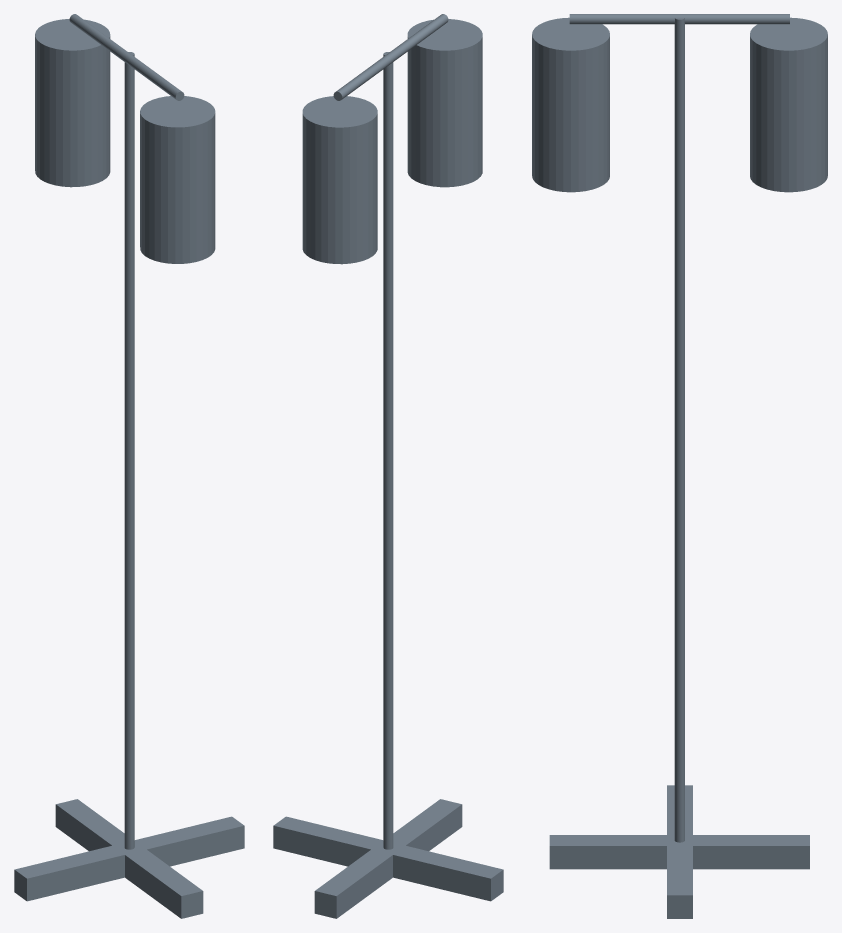
File: drop_counter.fbx
The picture shows the model from 3 angles, left to right: view 1: azimuth 30°, elevation 25°; view 2: azimuth 150°, elevation 25°; view 3: azimuth 270°, elevation 25°; orthographic projection. The views are drawn at different scales.
Visible parts, largest first — view 1: drop_counter.001; view 2: drop_counter.001; view 3: drop_counter.001.
Boxes of the visible parts, left/top/right/bottom form: drop_counter.001: left=14, top=14, right=244, bottom=918; drop_counter.001: left=273, top=14, right=503, bottom=918; drop_counter.001: left=532, top=14, right=827, bottom=918.
Bounding box in the file's own units: 50 × 180 × 56.82.
